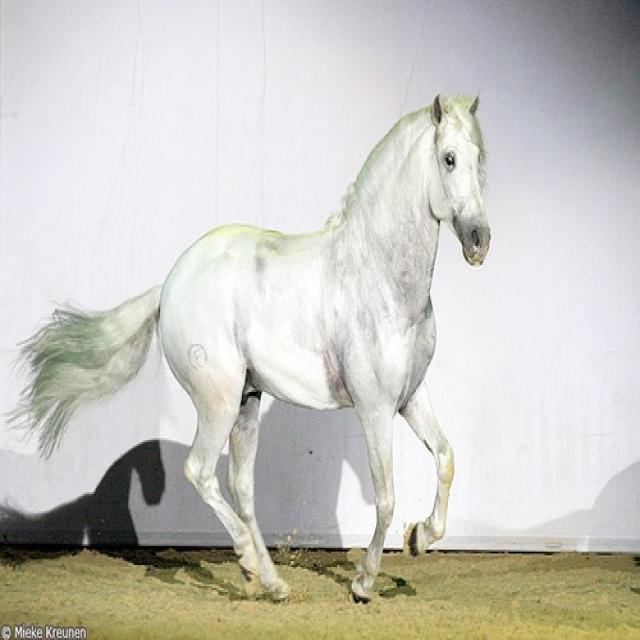horse: (23, 88, 490, 600)
